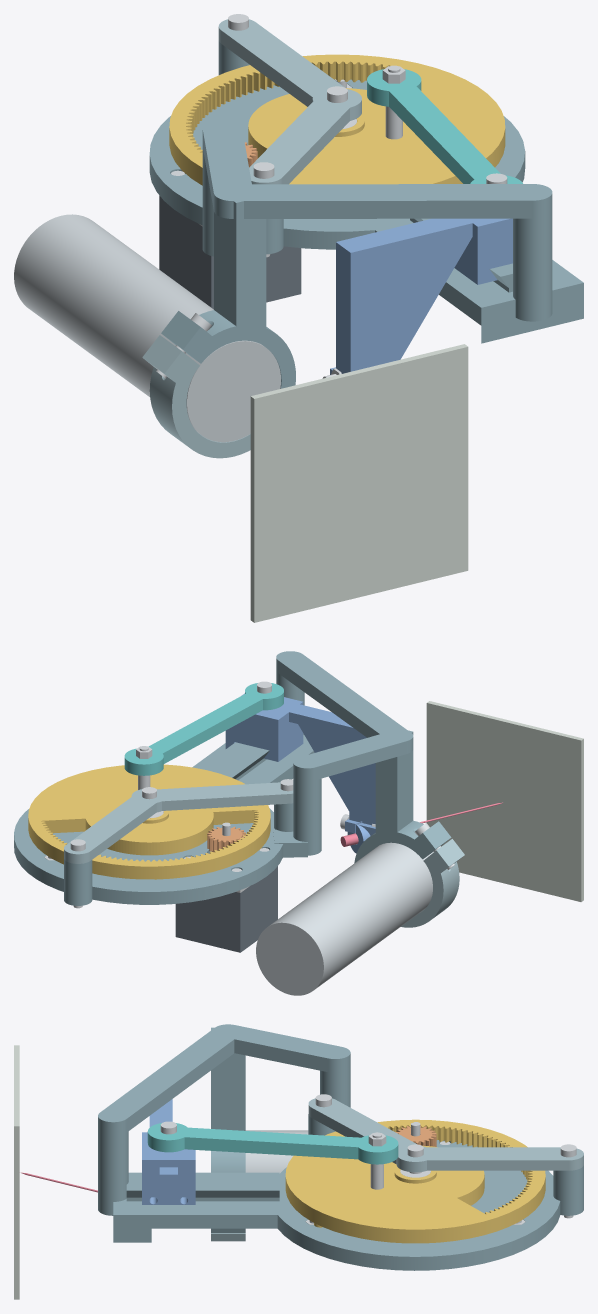
Rendered from slider_crank_v3_assembly.glb.
3 renders of one model, top to bottom at view 1: azimuth 30°, elevation 25°; view 2: azimuth 150°, elevation 25°; view 3: azimuth 270°, elevation 25°, orthographic. The views are drawn at different scales.
Visible parts, largest first — view 1: =>[0:1:1:50], =>[0:1:1:3], =>[0:1:1:48], =>[0:1:1:6], =>[0:1:1:9], =>[0:1:1:5], =>[0:1:1:27], =>[0:1:1:8], =>[0:1:1:4]; view 2: =>[0:1:1:3], =>[0:1:1:50], =>[0:1:1:6], =>[0:1:1:48], =>[0:1:1:9], =>[0:1:1:5], =>[0:1:1:27], =>[0:1:1:8], =>[0:1:1:4], =>[0:1:1:7]; view 3: =>[0:1:1:3], =>[0:1:1:6], =>[0:1:1:5], =>[0:1:1:8], =>[0:1:1:9], =>[0:1:1:50], =>[0:1:1:48], =>[0:1:1:7].
Part boxes in pixels (box(x1,y1,x2,y2)): =>[0:1:1:50]: box(250, 344, 468, 622); =>[0:1:1:3]: box(149, 40, 583, 388); =>[0:1:1:48]: box(14, 214, 280, 442); =>[0:1:1:6]: box(169, 54, 505, 185); =>[0:1:1:9]: box(330, 218, 512, 374); =>[0:1:1:5]: box(218, 19, 361, 184); =>[0:1:1:27]: box(159, 195, 301, 309); =>[0:1:1:8]: box(367, 69, 522, 183); =>[0:1:1:4]: box(142, 335, 250, 458); =>[0:1:1:3]: box(14, 651, 451, 905); =>[0:1:1:50]: box(426, 701, 583, 901); =>[0:1:1:6]: box(28, 764, 270, 879); =>[0:1:1:48]: box(256, 842, 433, 995); =>[0:1:1:9]: box(225, 693, 375, 853); =>[0:1:1:5]: box(64, 782, 293, 863); =>[0:1:1:27]: box(175, 866, 277, 952); =>[0:1:1:8]: box(124, 683, 283, 775); =>[0:1:1:4]: box(401, 839, 464, 927); =>[0:1:1:7]: box(207, 826, 246, 852); =>[0:1:1:3]: box(98, 1024, 583, 1270); =>[0:1:1:6]: box(285, 1119, 545, 1243); =>[0:1:1:5]: box(308, 1098, 583, 1172); =>[0:1:1:8]: box(147, 1123, 398, 1164); =>[0:1:1:9]: box(142, 1099, 195, 1204); =>[0:1:1:50]: box(14, 1045, 19, 1299); =>[0:1:1:48]: box(245, 1130, 308, 1173); =>[0:1:1:7]: box(395, 1125, 436, 1146).
Bounding box in the file's own units: 0.236 × 0.134 × 0.2979.
